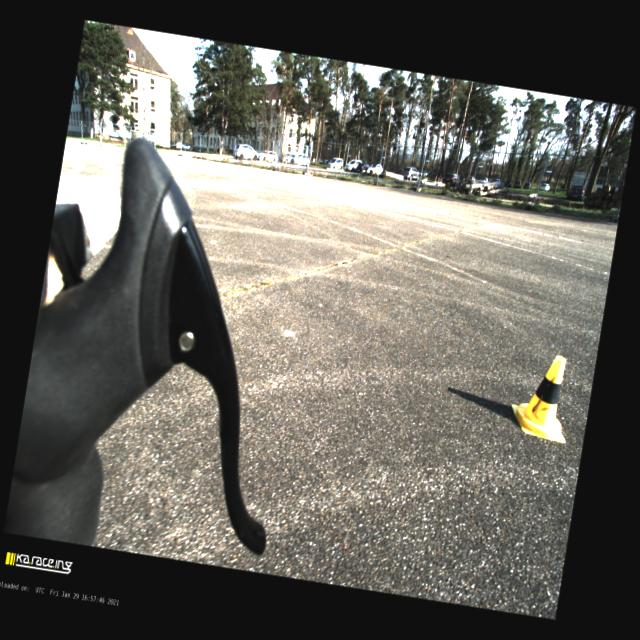yellow_cone: (507, 350, 579, 444)
